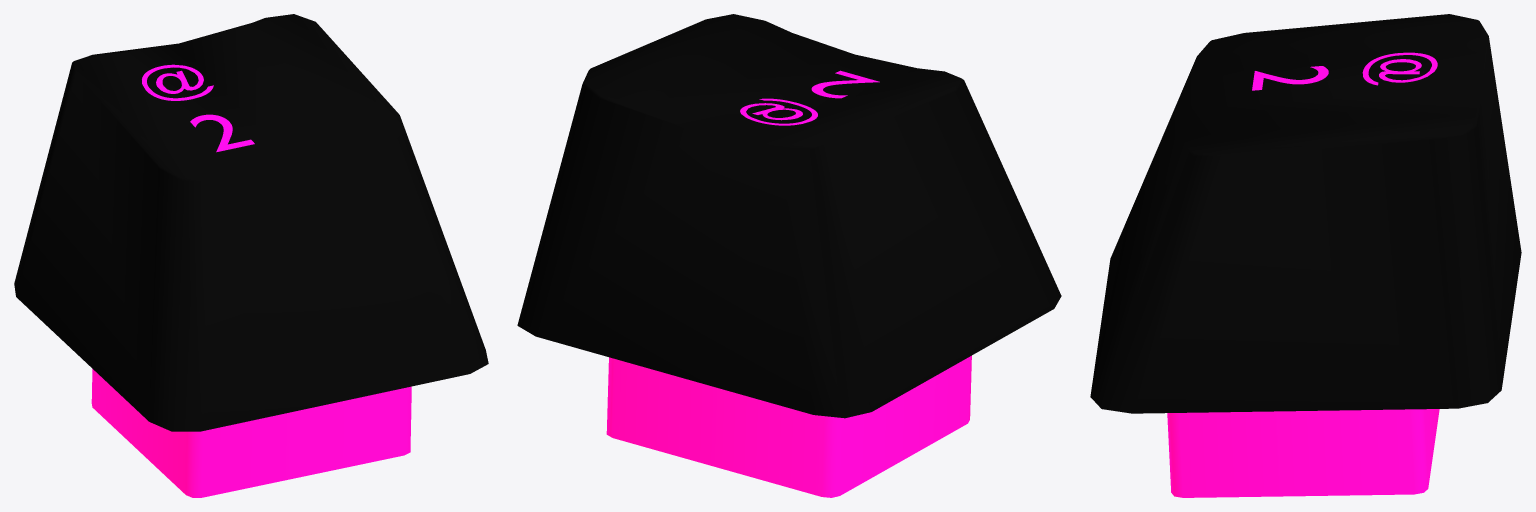
File: key_2_1-54l7va_H.glb
The picture shows the model from 3 angles, left to right: view 1: azimuth 30°, elevation 25°; view 2: azimuth 150°, elevation 25°; view 3: azimuth 270°, elevation 25°; orthographic projection. The views are drawn at different scales.
Parts seen in each view (by area): view 1: StudyShelf_218; view 2: StudyShelf_218; view 3: StudyShelf_218.
Boxes of the visible parts, left/top/right/bottom form: StudyShelf_218: left=14, top=14, right=488, bottom=497; StudyShelf_218: left=517, top=14, right=1061, bottom=497; StudyShelf_218: left=1090, top=14, right=1521, bottom=497.
Size of the model in its own units: 4.35 by 4.14 by 4.35.
